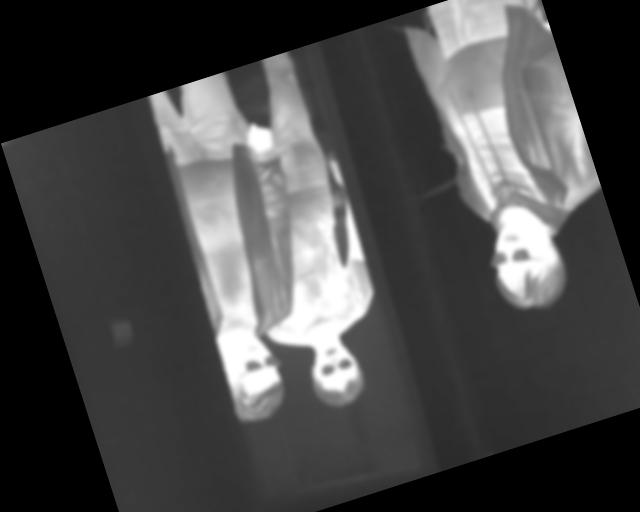face: (481, 211, 576, 321), (213, 325, 293, 427), (301, 332, 371, 414)
